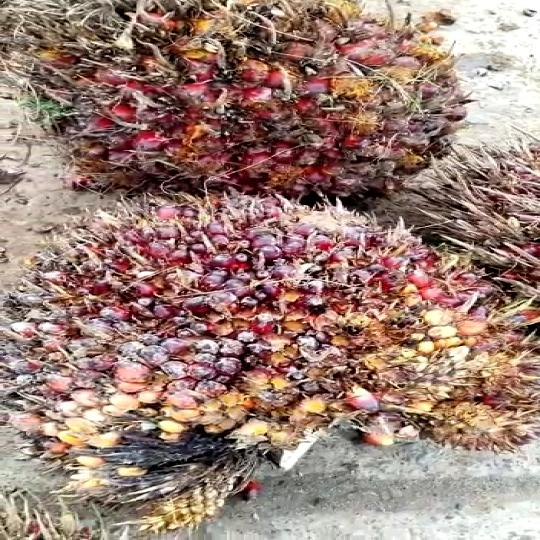masak: (4, 176, 478, 524), (10, 0, 531, 208)
